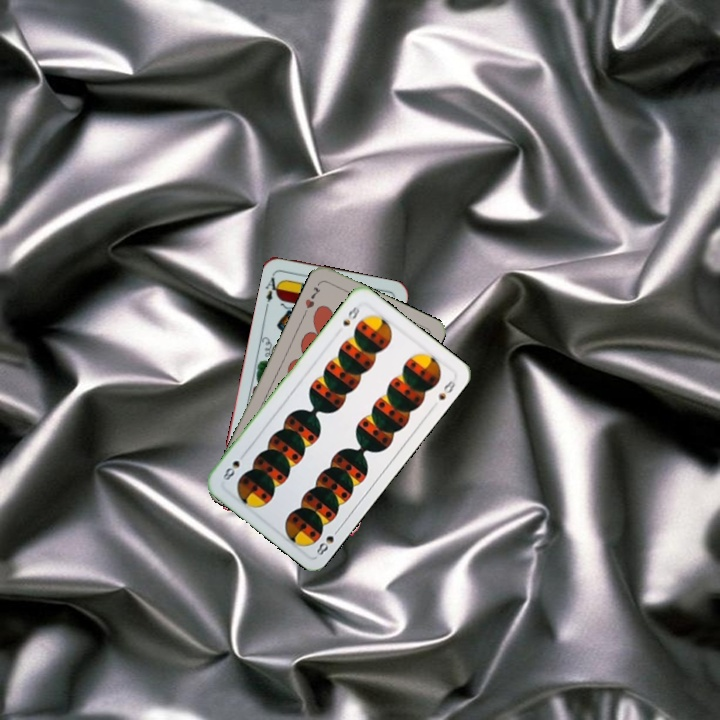EA: (262, 270, 283, 310)
H7: (301, 283, 323, 311)
S8: (312, 523, 343, 560), (339, 302, 362, 329)
